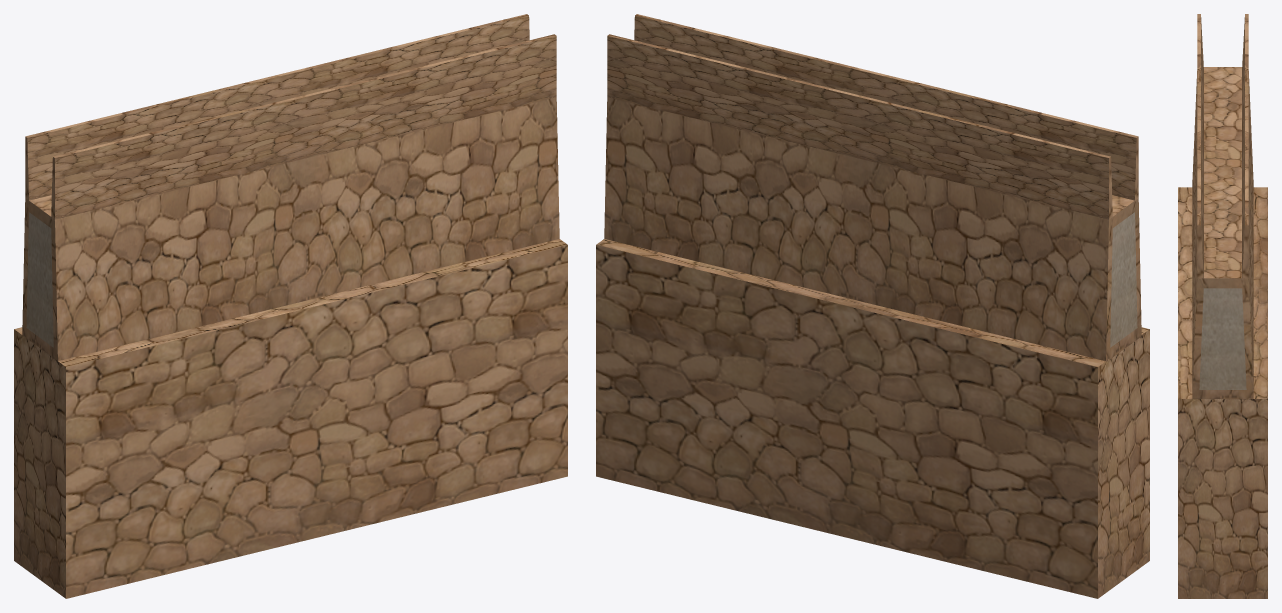
The model's file is tara_wall_long.dae.
3 views of the same model, side by side, from view 1: azimuth 30°, elevation 25°; view 2: azimuth 150°, elevation 25°; view 3: azimuth 270°, elevation 25° (orthographic). The views are drawn at different scales.
Visible parts, largest first — view 1: wall_long; view 2: wall_long; view 3: wall_long.
Boxes of the visible parts, box(x1,y1,x2,y2) form: wall_long: box(14, 14, 567, 598); wall_long: box(596, 14, 1149, 598); wall_long: box(1178, 14, 1267, 598).
Size of the model in its own units: 35.51 by 6.37 by 29.26.
